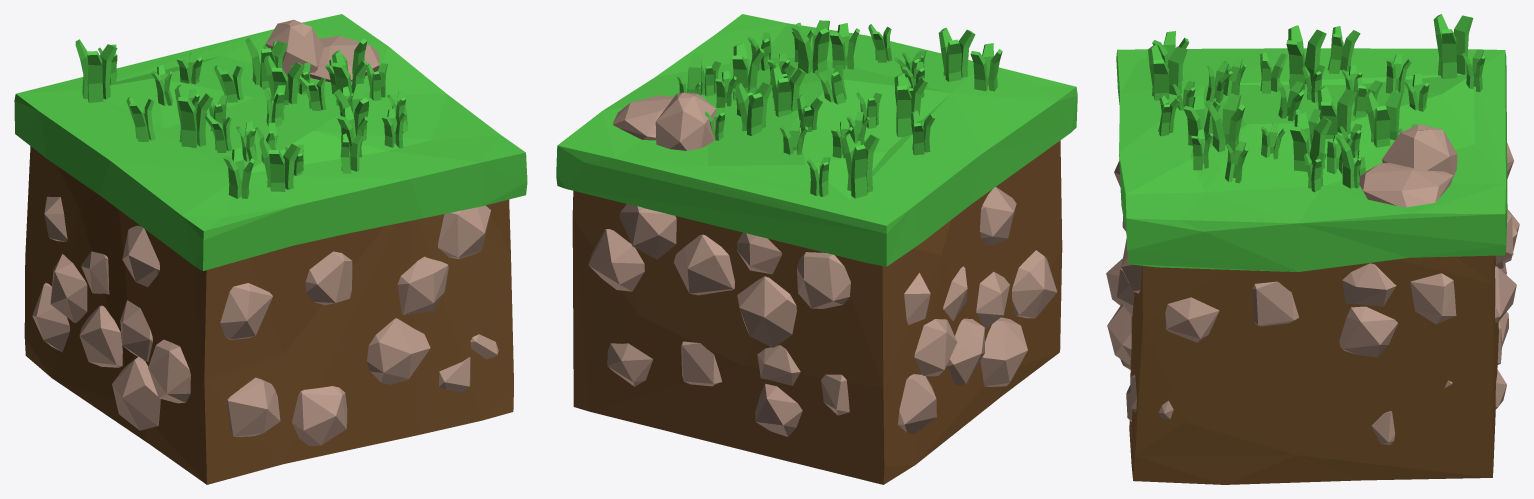
File: TallTile1.fbx
3 views of the same model, side by side, from view 1: azimuth 30°, elevation 25°; view 2: azimuth 150°, elevation 25°; view 3: azimuth 270°, elevation 25° (orthographic). The views are drawn at different scales.
Visible parts, largest first — view 1: Ground, Rocks.001, Grass Blades, Rocks, Top Rocks; view 2: Ground, Grass Blades, Rocks.001, Rocks, Top Rocks; view 3: Ground, Grass Blades, Rocks, Top Rocks, Rocks.001.
Boxes of the visible parts, bbox=[...] form: Ground: bbox=[14, 14, 527, 484]; Rocks.001: bbox=[32, 254, 498, 445]; Grass Blades: bbox=[75, 38, 408, 198]; Rocks: bbox=[44, 196, 490, 339]; Top Rocks: bbox=[265, 19, 379, 82]; Ground: bbox=[556, 14, 1077, 484]; Grass Blades: bbox=[676, 20, 1002, 198]; Rocks.001: bbox=[607, 250, 1057, 436]; Rocks: bbox=[588, 187, 1016, 347]; Top Rocks: bbox=[612, 92, 716, 150]; Ground: bbox=[1116, 48, 1507, 484]; Grass Blades: bbox=[1148, 14, 1485, 192]; Rocks: bbox=[1114, 142, 1519, 357]; Top Rocks: bbox=[1359, 124, 1457, 207]; Rocks.001: bbox=[1106, 258, 1508, 444].
Bounding box in the file's own units: 224 × 198 × 224.
